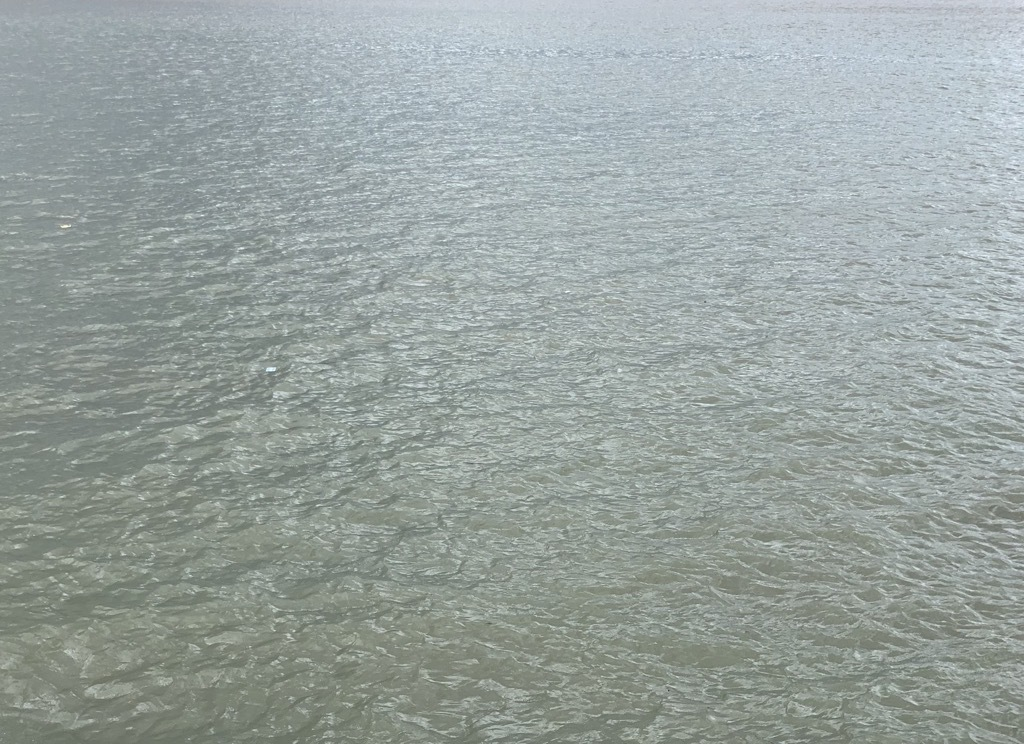organic: (483, 620, 497, 626), (703, 300, 708, 305)
plastic: (264, 364, 279, 375)
